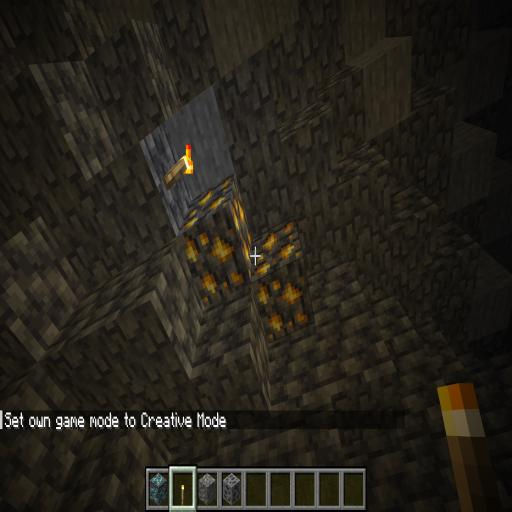gold ore: (164, 132, 328, 358)
